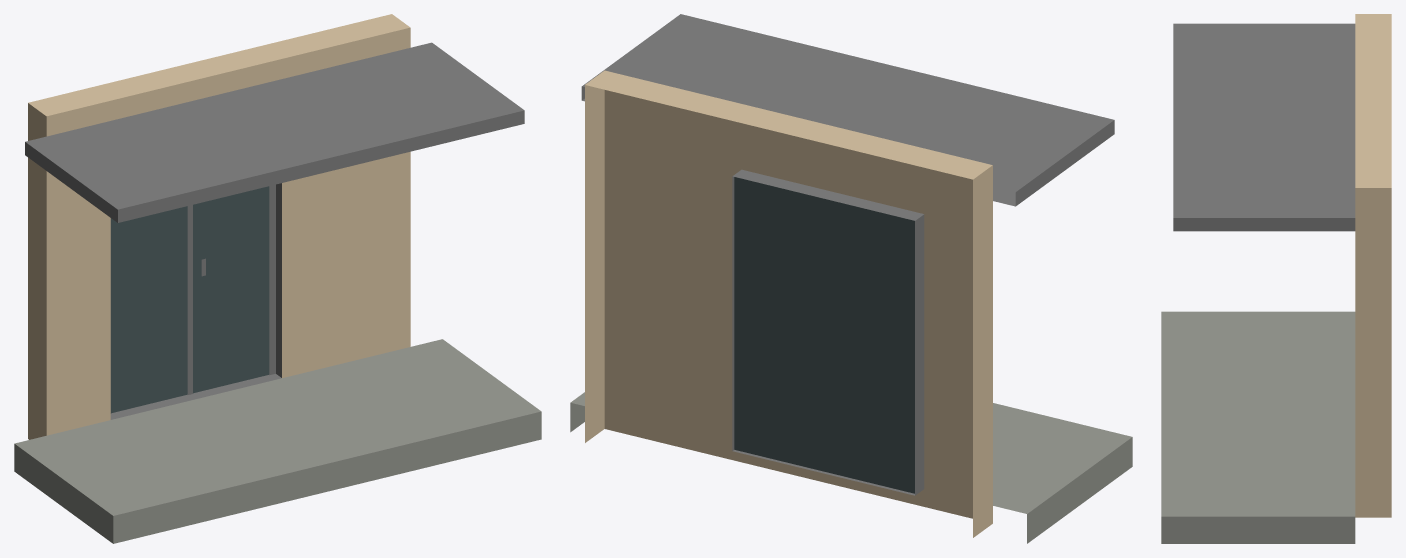
The model's file is entrance.fbx.
The picture shows the model from 3 angles, left to right: view 1: azimuth 30°, elevation 25°; view 2: azimuth 150°, elevation 25°; view 3: azimuth 270°, elevation 25°; orthographic projection. The views are drawn at different scales.
Visible parts, largest first — view 1: a2001/200/entrance; view 2: a2001/200/entrance; view 3: a2001/200/entrance.
Boxes of the visible parts, x1,y1,x2,y2 form: a2001/200/entrance: (14, 14, 541, 543); a2001/200/entrance: (570, 14, 1132, 543); a2001/200/entrance: (1161, 14, 1391, 543).
Size of the model in its own units: 4 by 3.1 by 1.9.
